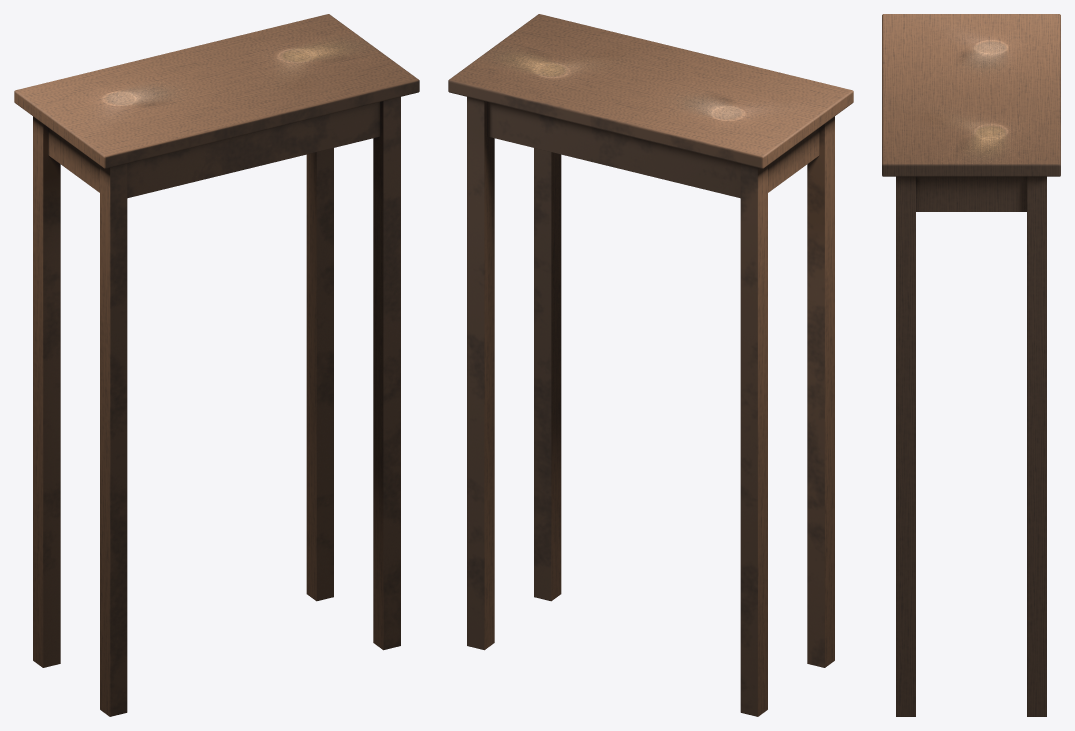
The model's file is 407_hook.glb.
3 renders of one model, left to right at view 1: azimuth 30°, elevation 25°; view 2: azimuth 150°, elevation 25°; view 3: azimuth 270°, elevation 25°, orthographic.
Visible parts, largest first — view 1: Table; view 2: Table; view 3: Table.
Boxes of the visible parts, x1=… form: Table: x1=14, y1=14, x2=419, y2=716; Table: x1=448, y1=14, x2=853, y2=716; Table: x1=882, y1=14, x2=1060, y2=716.
Size of what is drawn, in the model's own units: 1.8 by 3.1 by 0.9.
Materials: 1 (1 with a texture image).
